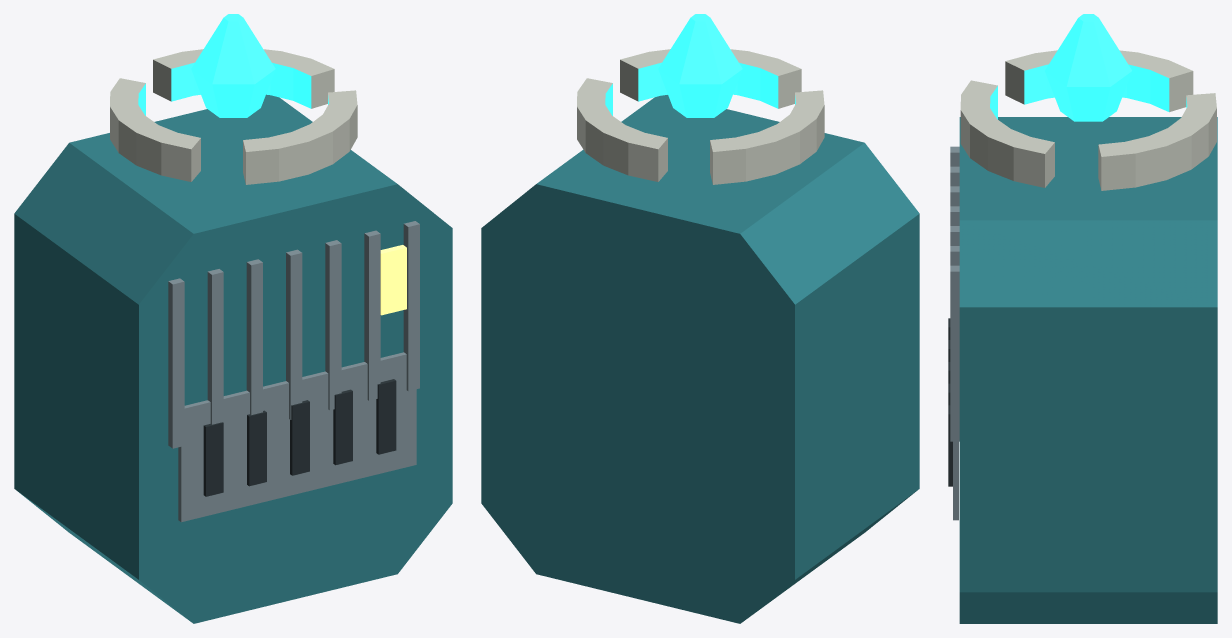
File: Utility_Transformer.glb
3 renders of one model, left to right at view 1: azimuth 30°, elevation 25°; view 2: azimuth 150°, elevation 25°; view 3: azimuth 270°, elevation 25°, orthographic. The views are drawn at different scales.
Visible parts, largest first — view 1: Utility_Transformer_Cabinet, Utility_Transformer_FieldCapacitors, Utility_Transformer_CoolingFins, Utility_Transformer_Status; view 2: Utility_Transformer_Cabinet, Utility_Transformer_FieldCapacitors; view 3: Utility_Transformer_Cabinet, Utility_Transformer_FieldCapacitors, Utility_Transformer_CoolingFins.
Part boxes in pixels (box(x1,y1,x2,y2)): Utility_Transformer_Cabinet: box(14, 94, 452, 623); Utility_Transformer_FieldCapacitors: box(110, 14, 357, 184); Utility_Transformer_CoolingFins: box(168, 221, 419, 448); Utility_Transformer_Status: box(380, 245, 406, 315); Utility_Transformer_Cabinet: box(481, 95, 919, 623); Utility_Transformer_FieldCapacitors: box(577, 14, 824, 184); Utility_Transformer_Cabinet: box(948, 117, 1217, 623); Utility_Transformer_FieldCapacitors: box(960, 14, 1216, 190); Utility_Transformer_CoolingFins: box(950, 146, 959, 441).
Bounding box in the file's own units: 1.6 × 2.61 × 1.15.
